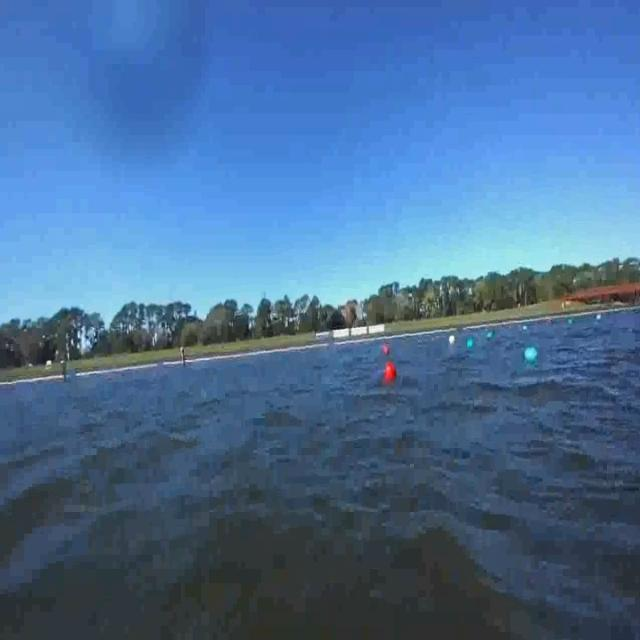green-buoy: (526, 344, 542, 364), (469, 338, 477, 352)
red-buoy: (382, 360, 396, 385), (382, 343, 389, 358)
yellow-buoy: (447, 331, 458, 348)
